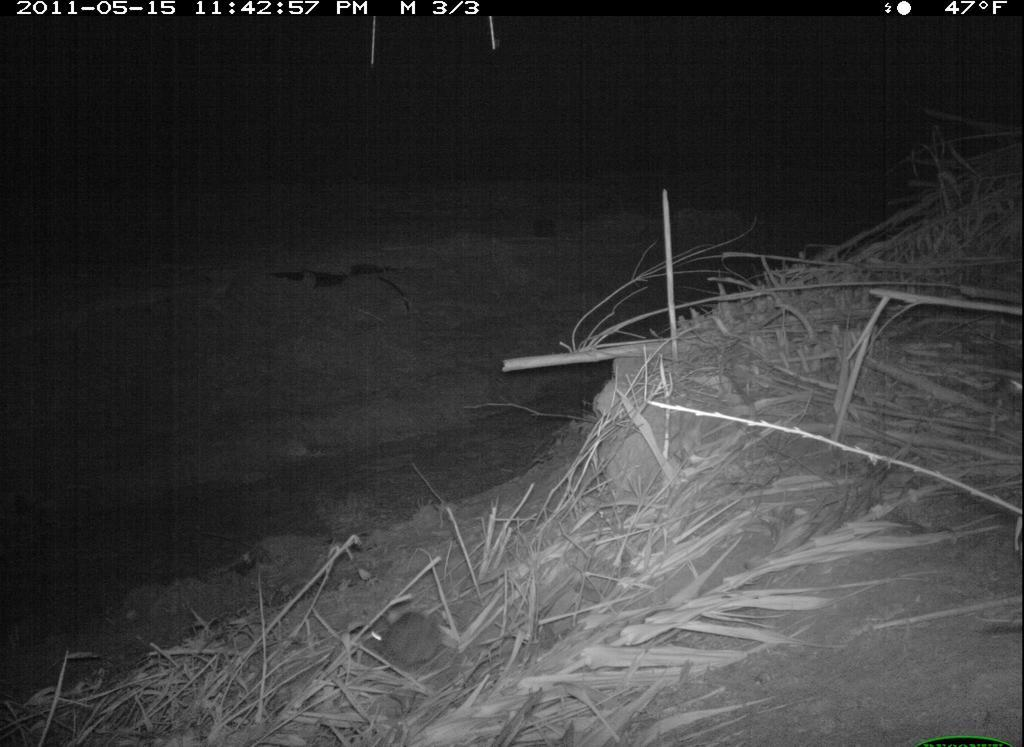rabbit: (364, 603, 449, 680)
